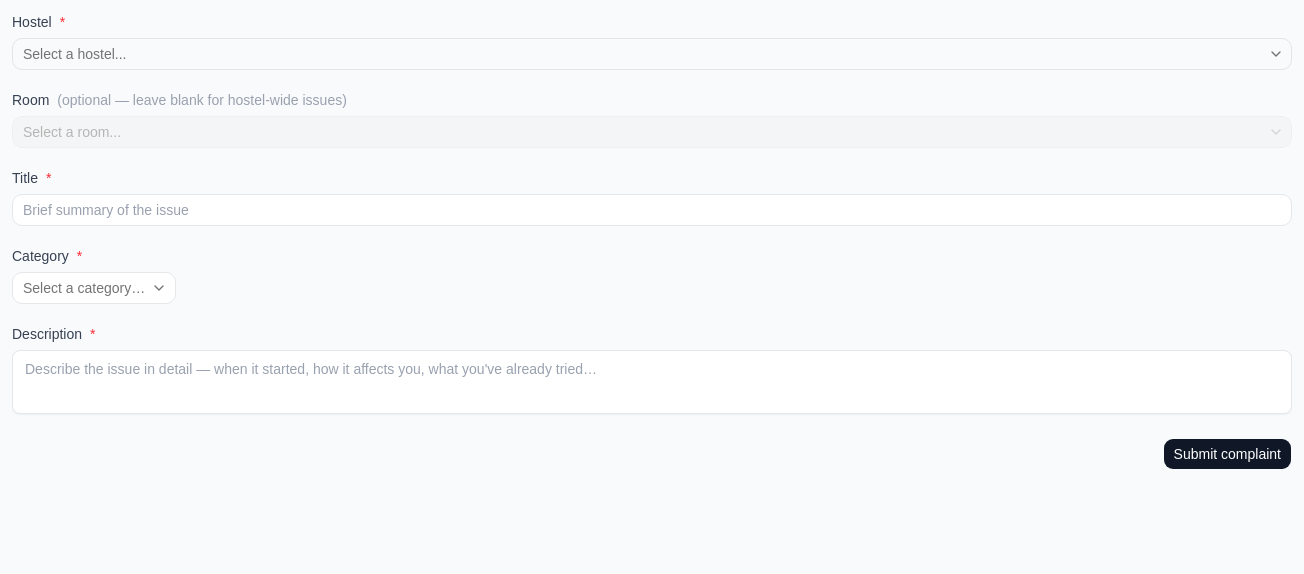
Test: CreateComplaintForm › blocks submission and shows field errors when required fields are empty
Step 1. Click the button "Submit complaint" → (1227, 454), box [1163, 438, 1292, 470]
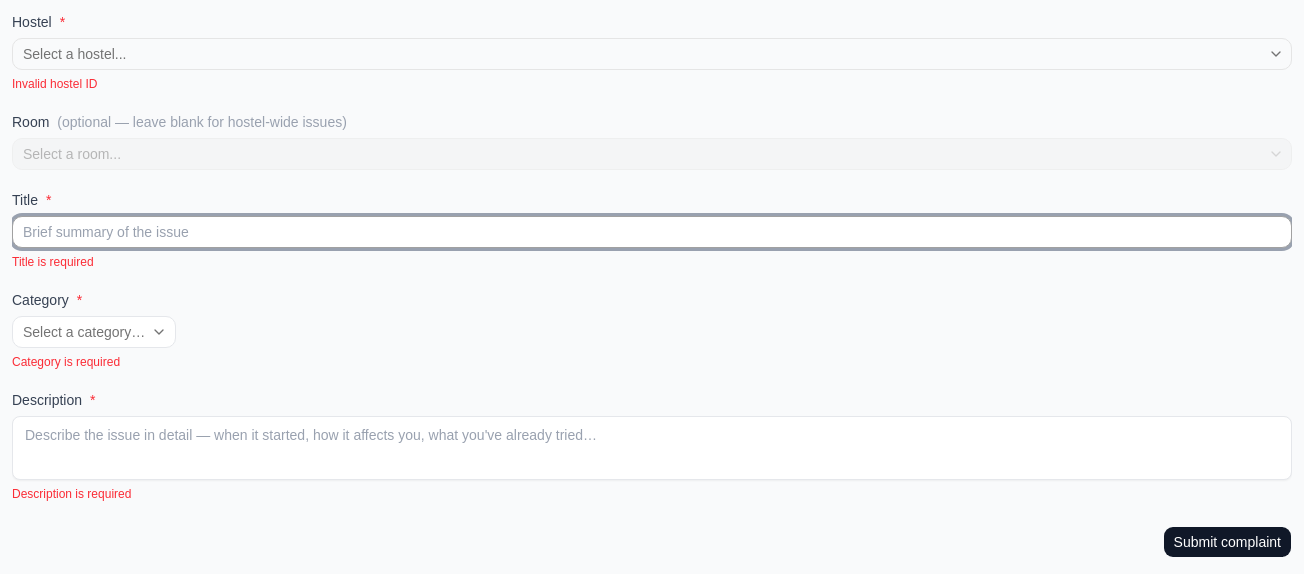
Result: the text "Title is required" is shown at [12, 255, 94, 269]
Result: the text "Description is required" is shown at [12, 487, 131, 501]
